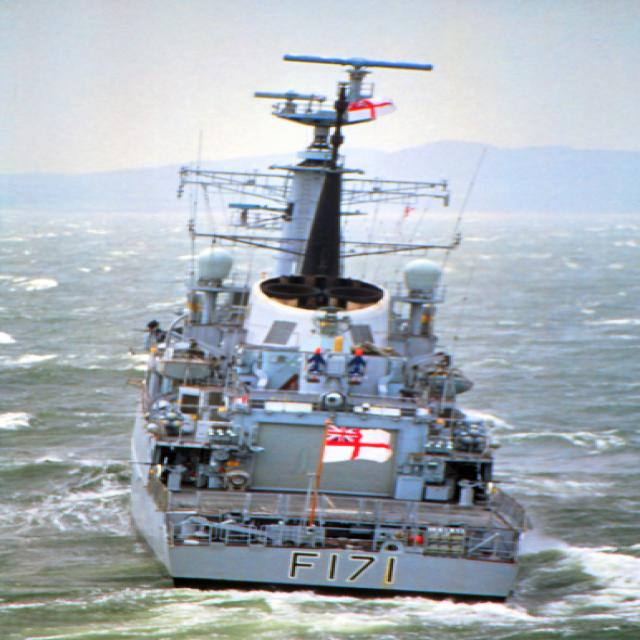Fragata: (127, 34, 568, 609)
